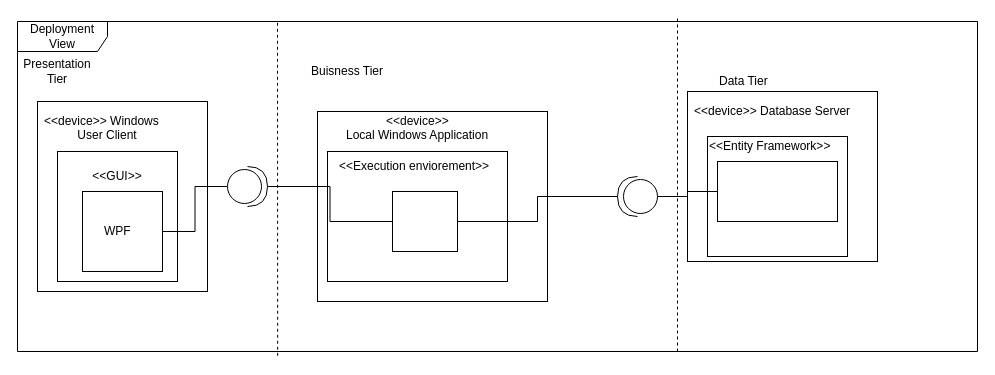
Some shapes in this 995 by 375 pixel diagram are drawn without their labels. The shapes that lost their labels are listed below. From the top down, each one's box as (x1, y1, x2, y2) in pixels, then its label:
(716, 160, 838, 222): SQL DB
(392, 190, 458, 252): CarnGo.sln C#
